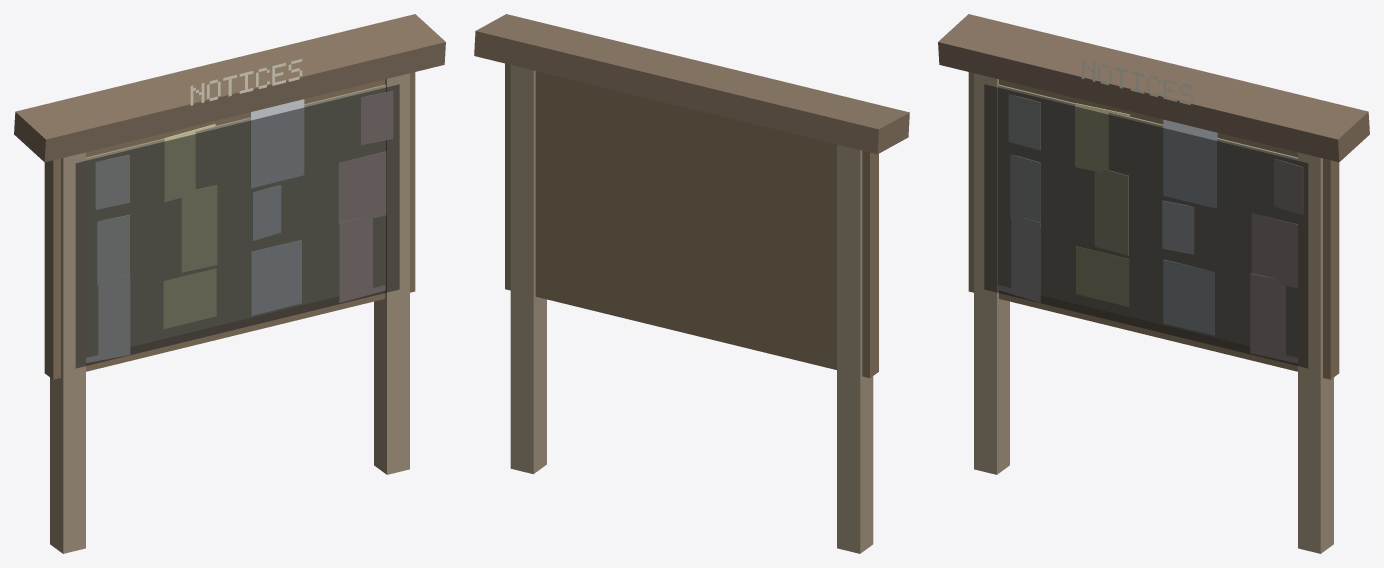
Rendered from town_noticeboard_a.glb.
3 renders of one model, left to right at view 1: azimuth 30°, elevation 25°; view 2: azimuth 150°, elevation 25°; view 3: azimuth 330°, elevation 25°, orthographic.
Visible parts, largest first — view 1: body; view 2: body; view 3: body.
Part boxes in pixels (box(x1,y1,x2,y2)): body: box(14, 14, 445, 553); body: box(474, 14, 909, 553); body: box(938, 14, 1369, 553).
Size of what is drawn, in the model's own units: 2.1 by 2.24 by 0.2953.
